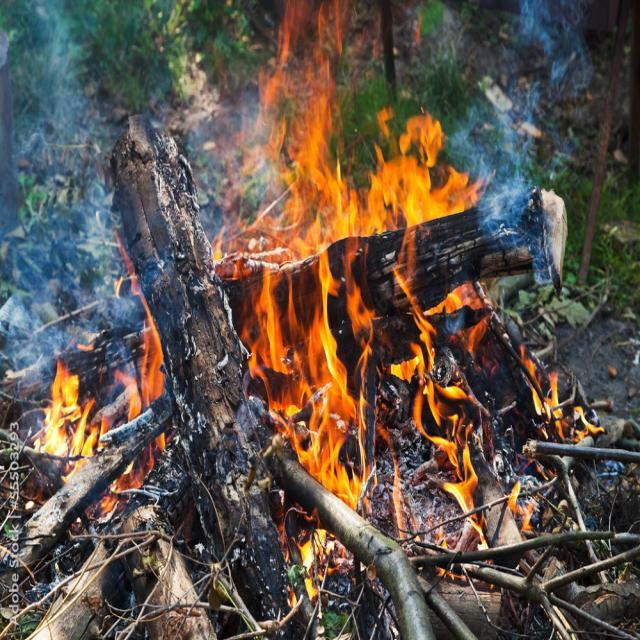Fire: (23, 0, 469, 526)
